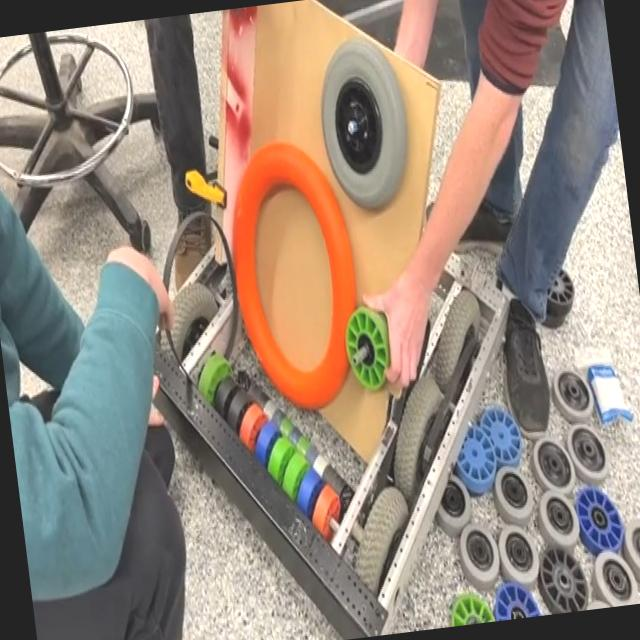note: (216, 130, 373, 422)
